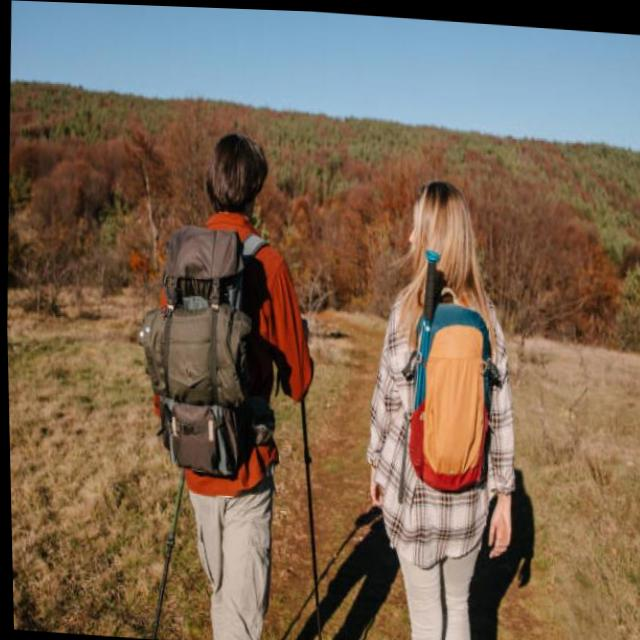no helmet: (190, 84, 280, 243), (391, 165, 485, 304)
